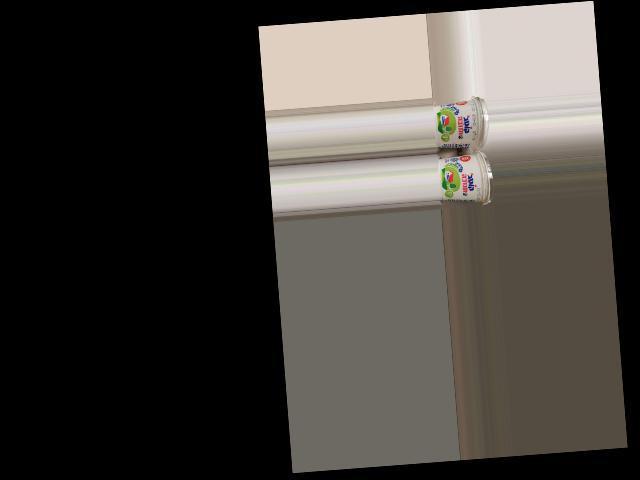cotage: (436, 149, 492, 203)
